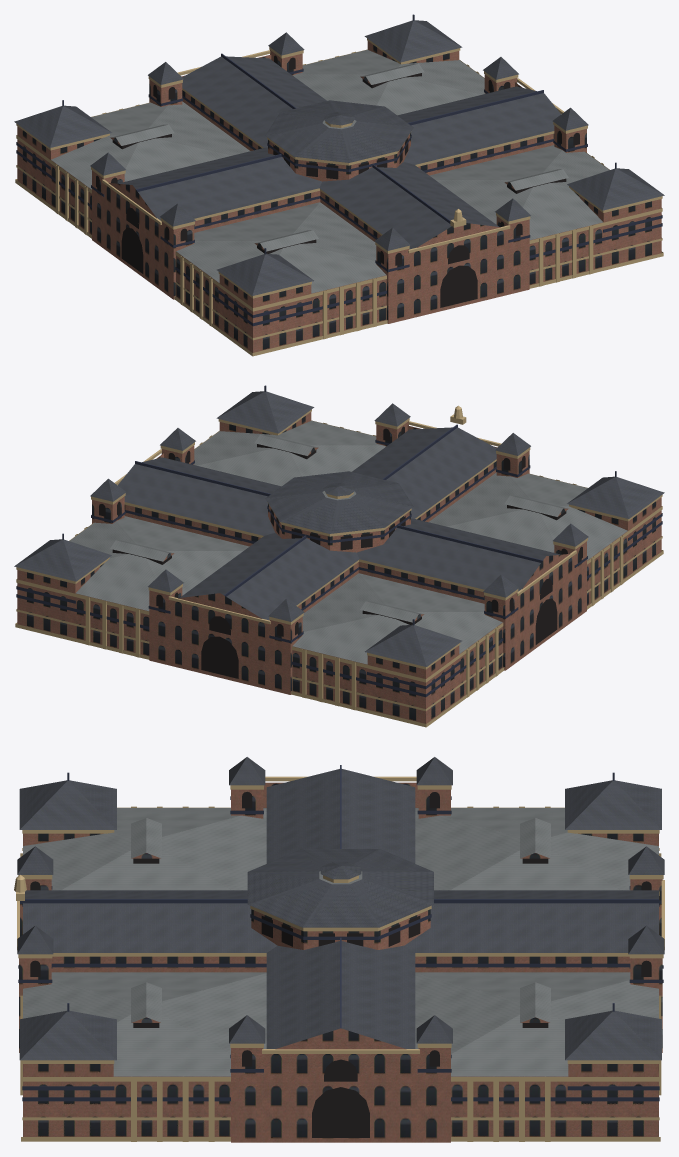
Rendered from arts_industries.glb.
3 views of the same model, one above another, from view 1: azimuth 30°, elevation 25°; view 2: azimuth 150°, elevation 25°; view 3: azimuth 270°, elevation 25° (orthographic). The views are drawn at different scales.
Visible parts, largest first — view 1: arts_industries; view 2: arts_industries; view 3: arts_industries.
Boxes of the visible parts, <box> form: arts_industries: <box>14,14,664,356</box>; arts_industries: <box>14,385,664,727</box>; arts_industries: <box>14,757,664,1142</box>.
Size of the model in its own units: 100 by 24 by 101.
Materials: 4 (4 with a texture image).
